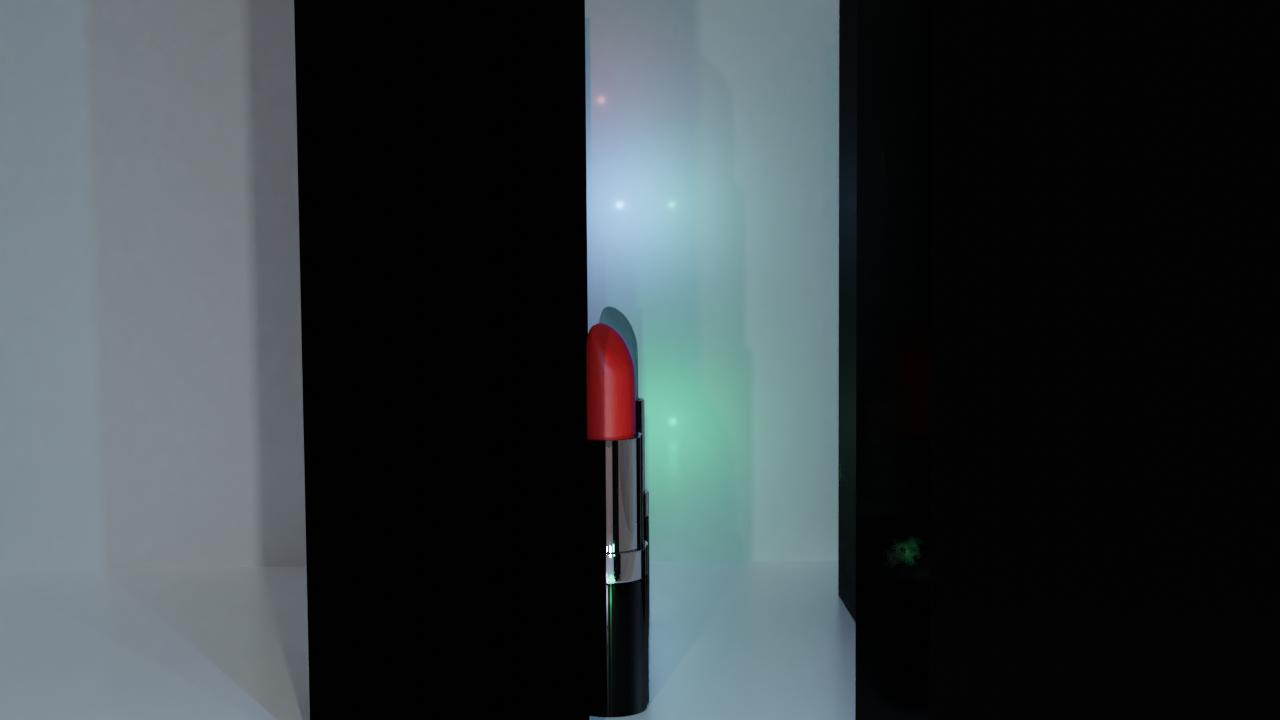CLASSIFIER_NAME: (573, 319, 648, 717)
